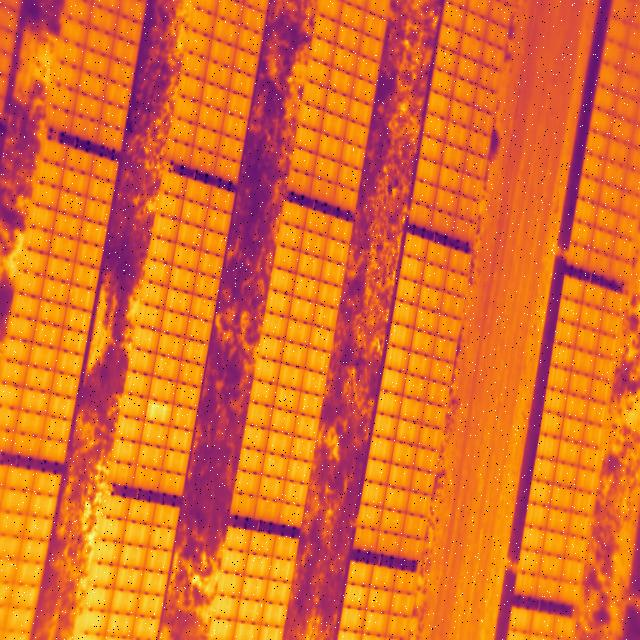Hotspot: (159, 405, 167, 421), (149, 404, 156, 420)
